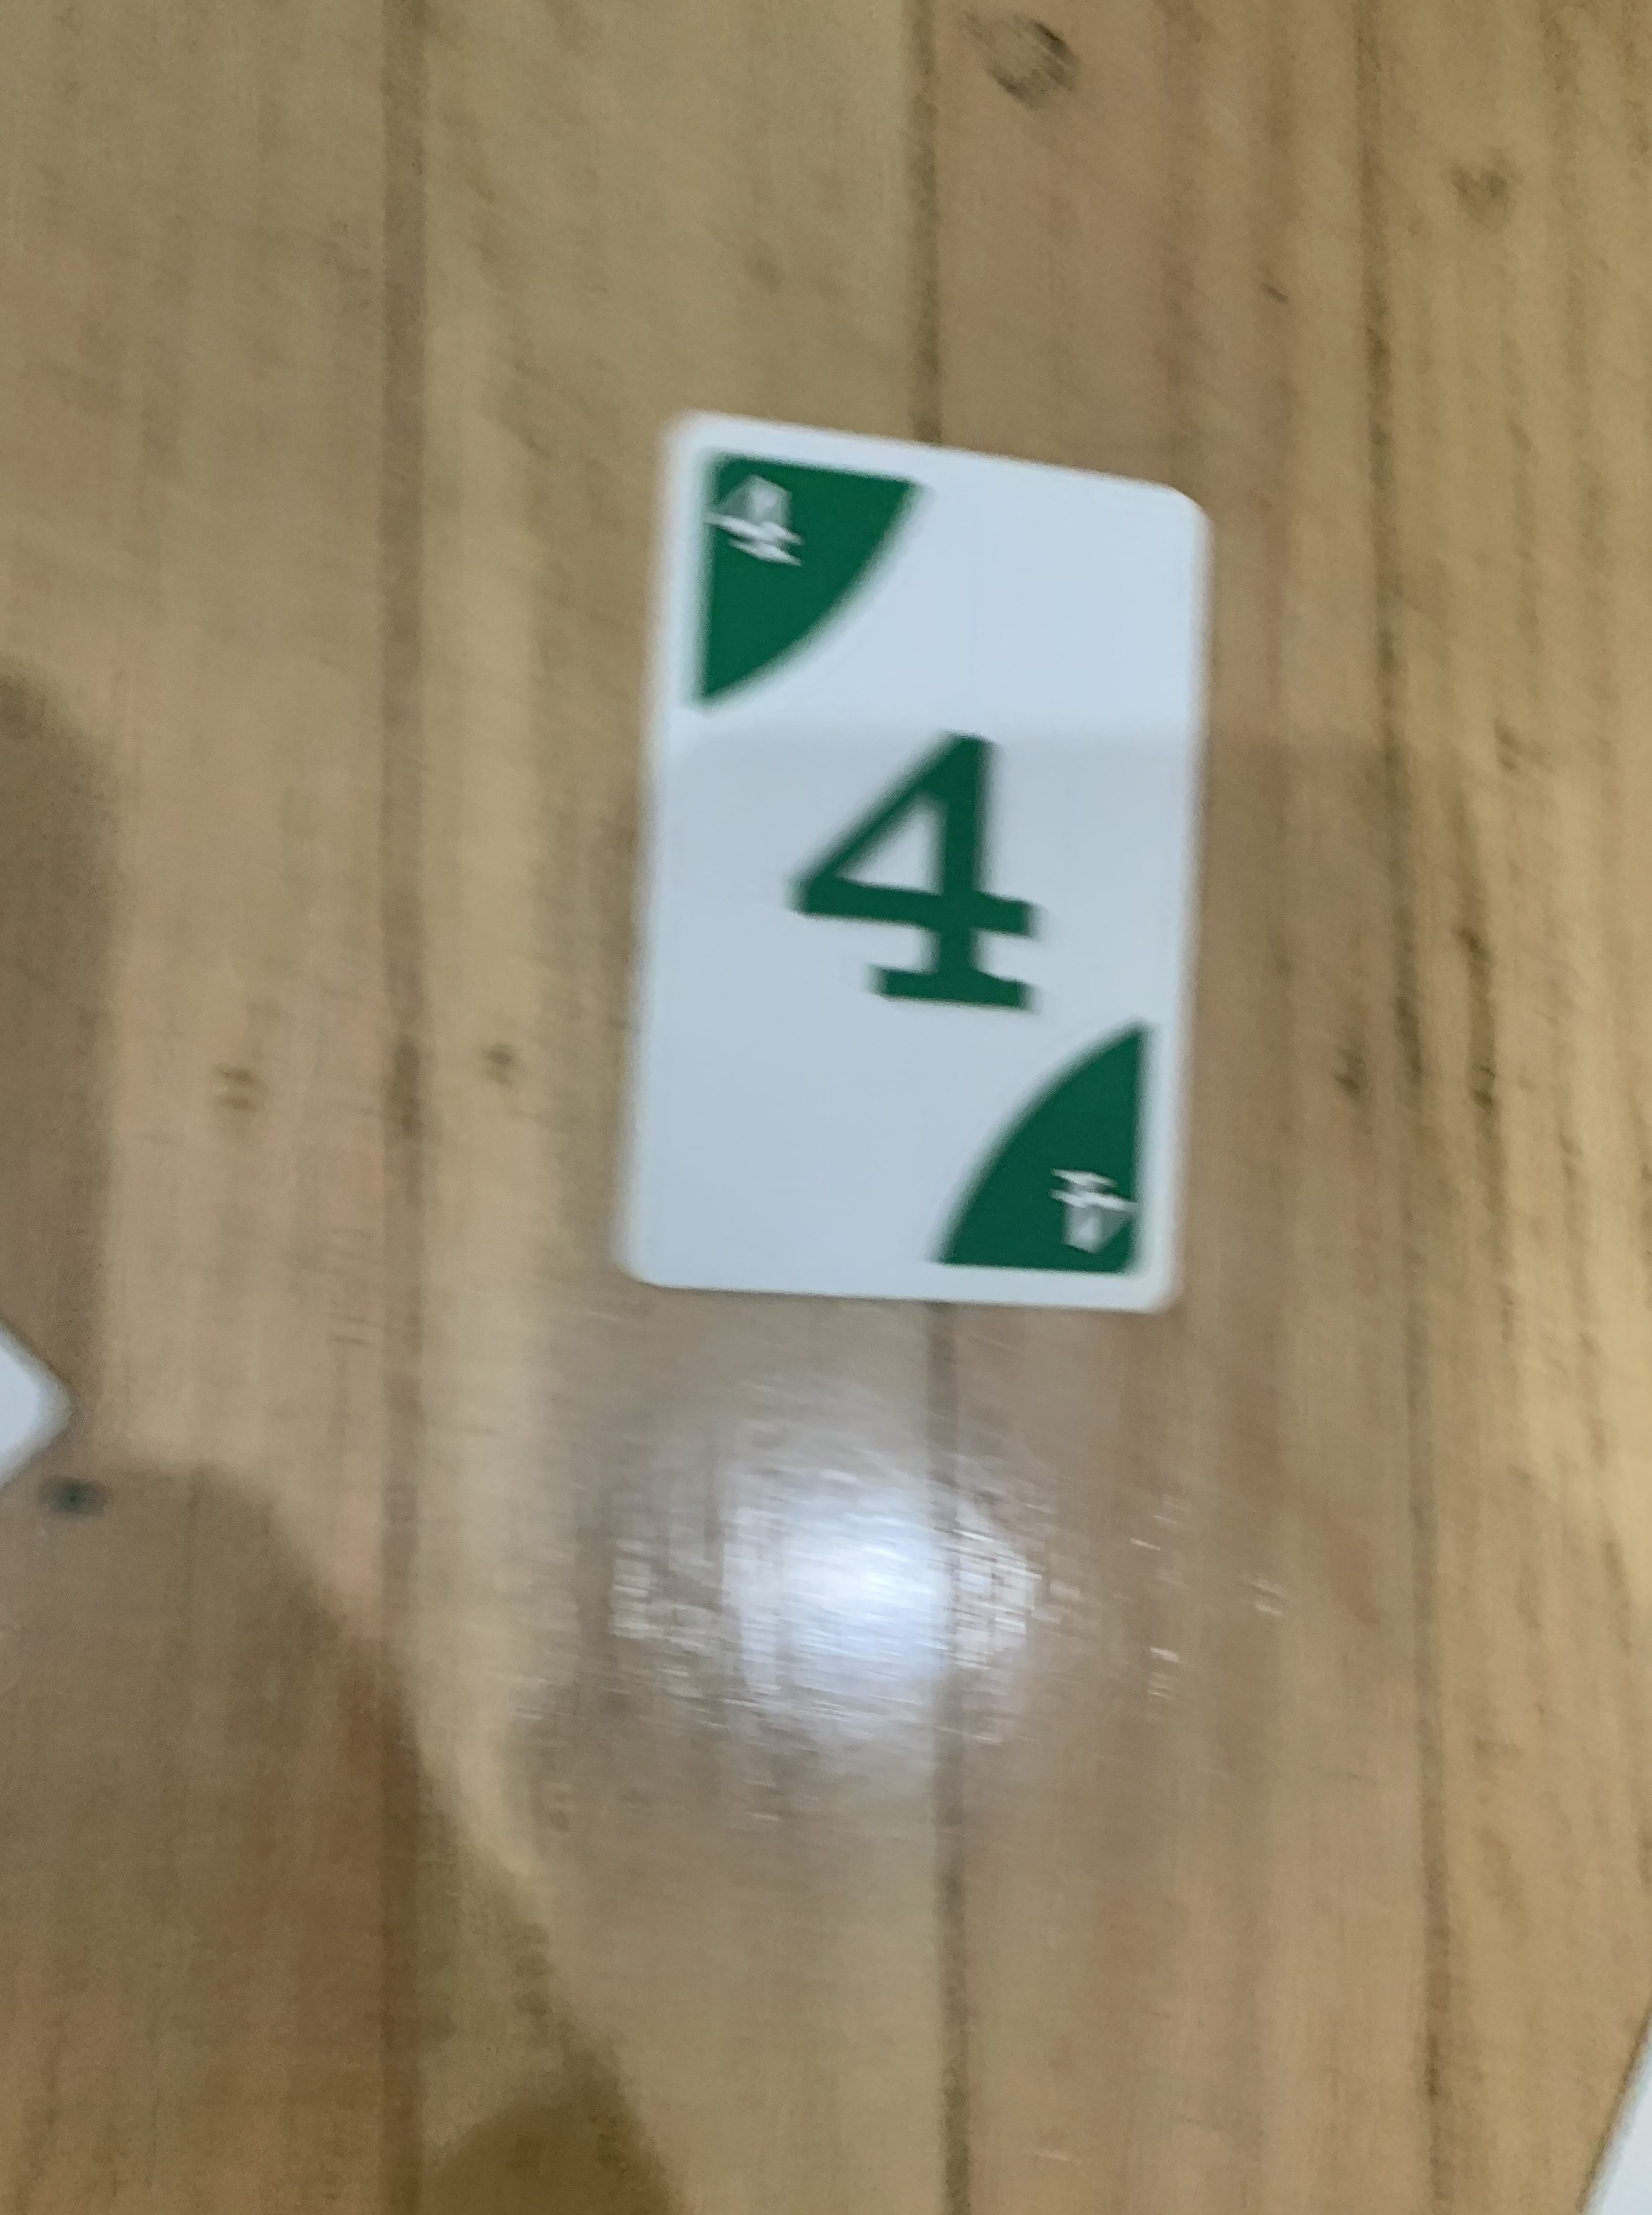four: (606, 401, 1222, 1316)
